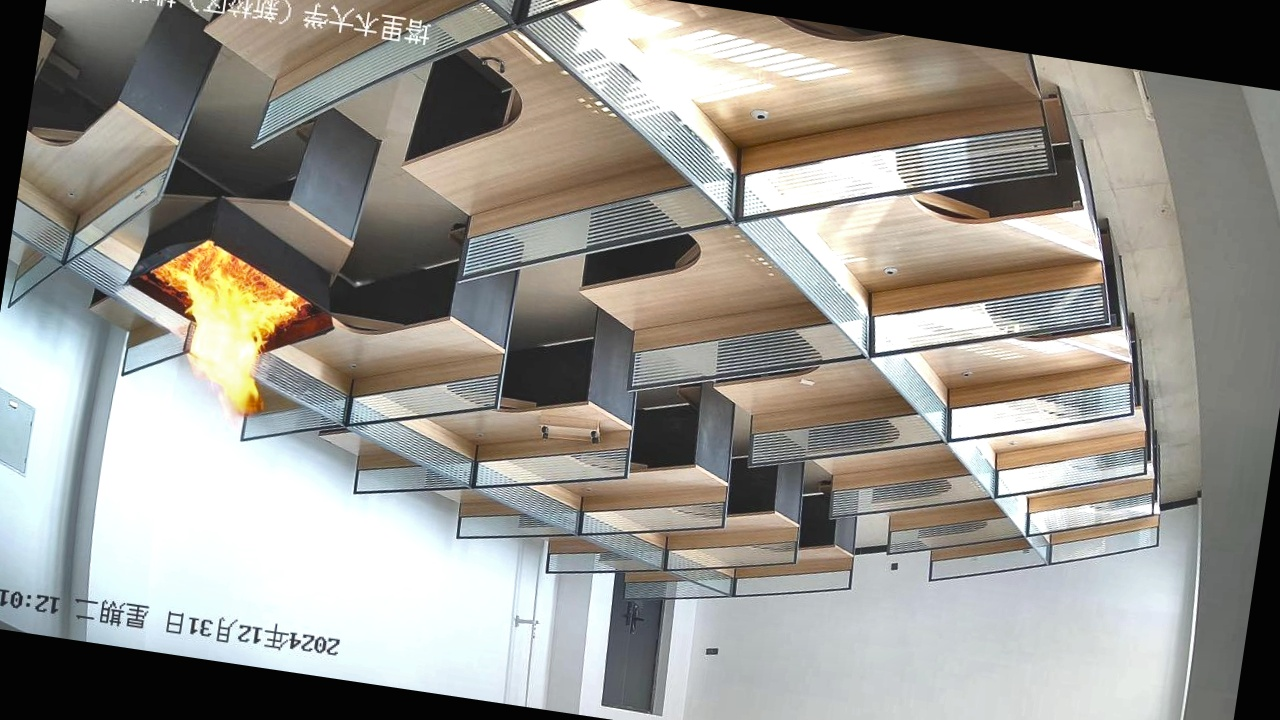fire: (108, 208, 331, 446)
